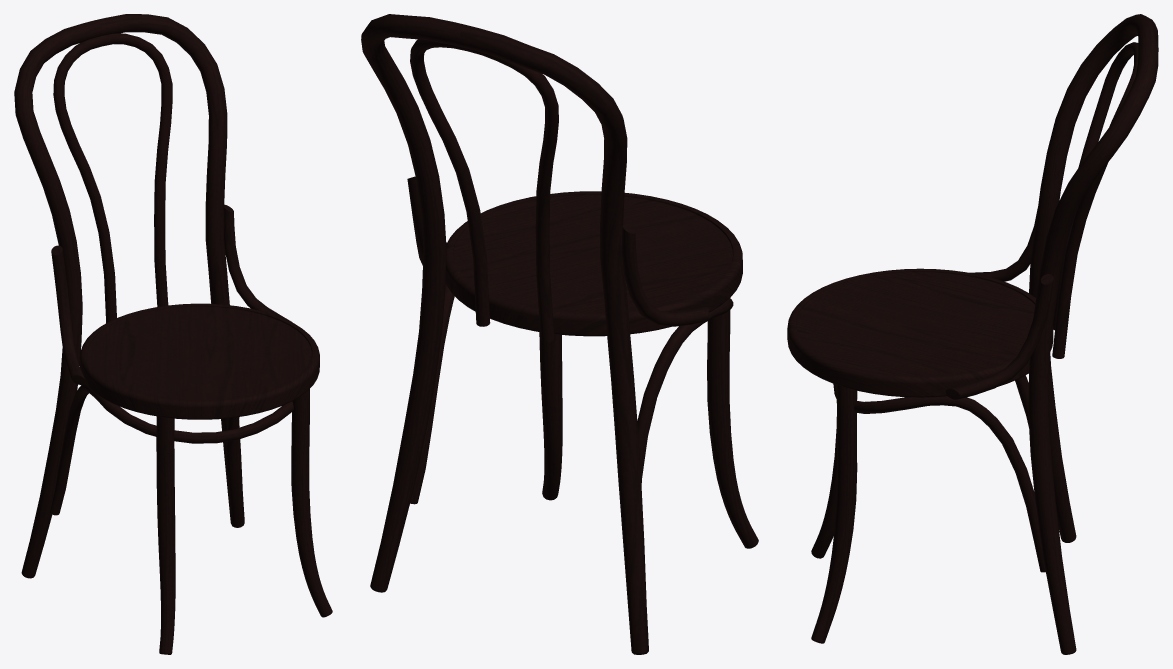
The model's file is chair_59_03.001.fbx.
The picture shows the model from 3 angles, left to right: view 1: azimuth 30°, elevation 25°; view 2: azimuth 150°, elevation 25°; view 3: azimuth 270°, elevation 25°; orthographic projection. The views are drawn at different scales.
Visible parts, largest first — view 1: chair_59_03.001; view 2: chair_59_03.001; view 3: chair_59_03.001.
Part boxes in pixels (x1,y1,x2,y2): chair_59_03.001: (14, 14, 332, 654); chair_59_03.001: (361, 14, 758, 654); chair_59_03.001: (787, 14, 1158, 654).
Bounding box in the file's own units: 41.34 × 90.44 × 54.16.
1 material, 1 textured.
